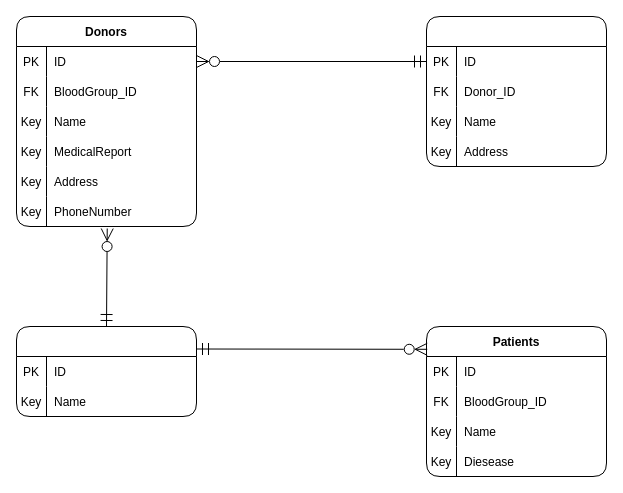
This 623x493 diagram has some shape labels left out. The shapes that lost their labels are listed below. From the top down, each one's box as (x1, y1, x2, y2) in pixels, then its label:
(426, 16, 606, 166): BloodBanks
(16, 326, 196, 416): BloodGroups
